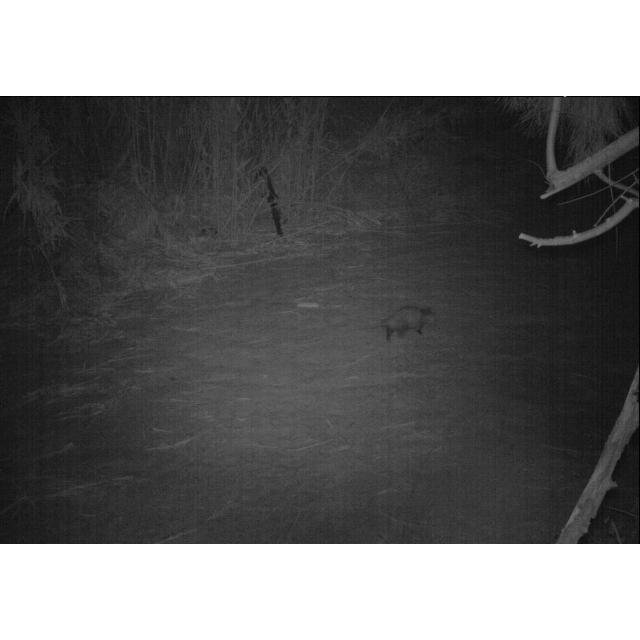animals: (378, 300, 438, 342)
